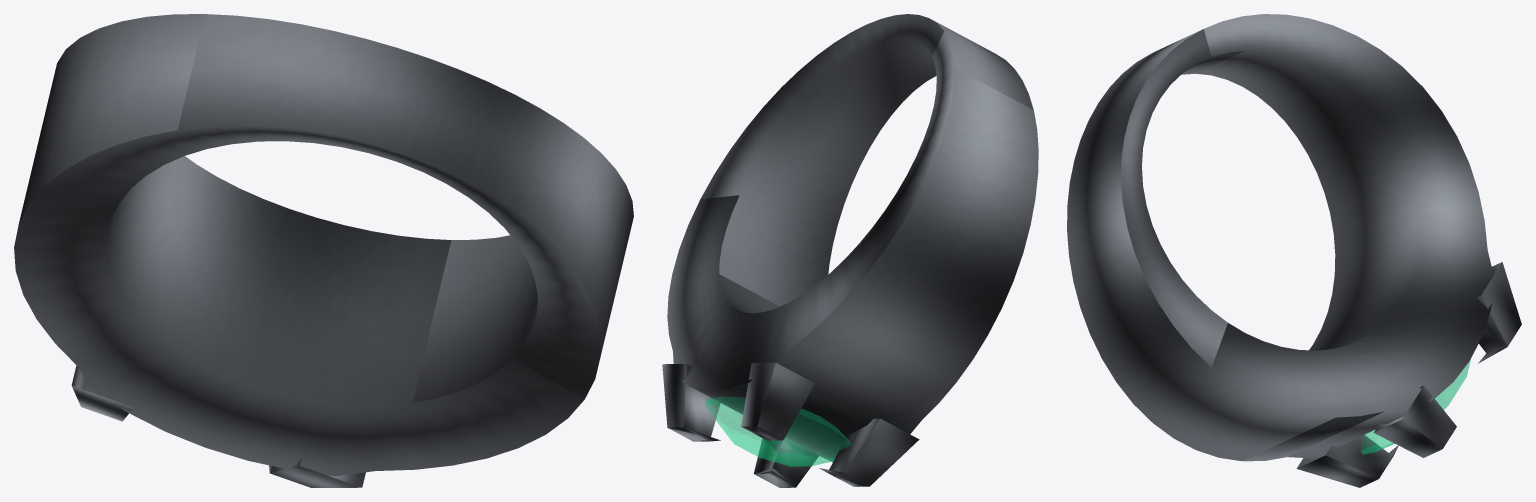
File: aether-relic.glb
3 renders of one model, left to right at view 1: azimuth 30°, elevation 25°; view 2: azimuth 150°, elevation 25°; view 3: azimuth 270°, elevation 25°, orthographic. The views are drawn at different scales.
Visible parts, largest first — view 1: Aether_Shank, Aether_DragonClaws; view 2: Aether_Shank, Aether_DragonClaws, Aether_EmeraldGem; view 3: Aether_Shank, Aether_DragonClaws, Aether_EmeraldGem.
Part boxes in pixels (x1,y1,x2,y2): Aether_Shank: [14, 14, 633, 476]; Aether_DragonClaws: [71, 365, 365, 487]; Aether_Shank: [667, 14, 1038, 462]; Aether_DragonClaws: [662, 362, 919, 487]; Aether_EmeraldGem: [705, 397, 850, 466]; Aether_Shank: [1067, 14, 1493, 461]; Aether_DragonClaws: [1296, 262, 1521, 487]; Aether_EmeraldGem: [1361, 359, 1470, 454].
Size of the model in its own units: 2.13 by 2.25 by 2.22.
Materials: 2 (2 with a texture image).
